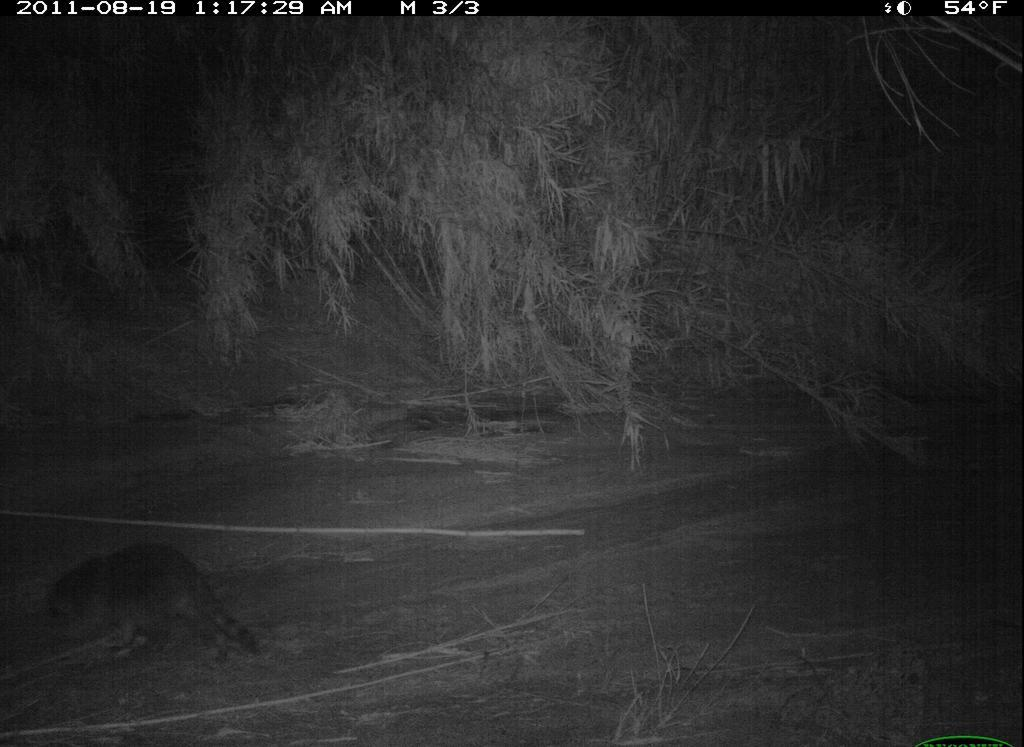raccoon: (34, 532, 271, 683)
